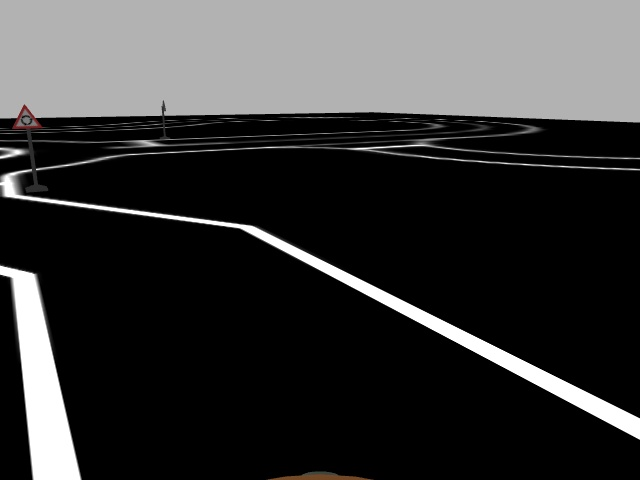roundabout: (10, 103, 42, 129)
